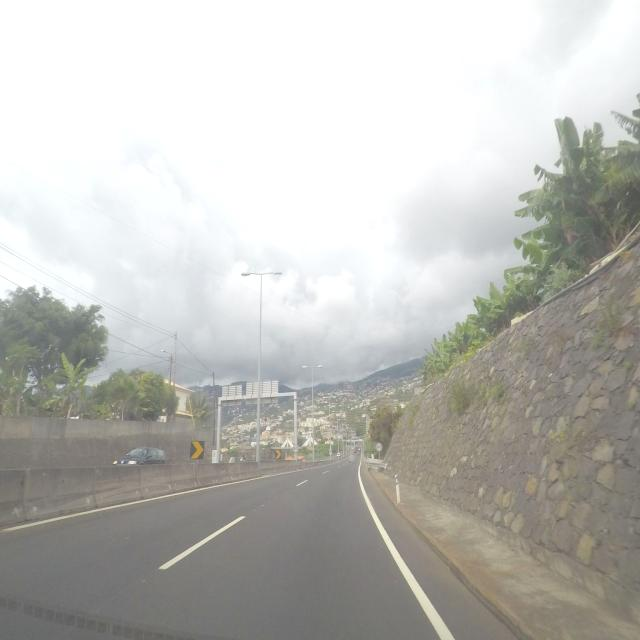car: (112, 446, 166, 466)
